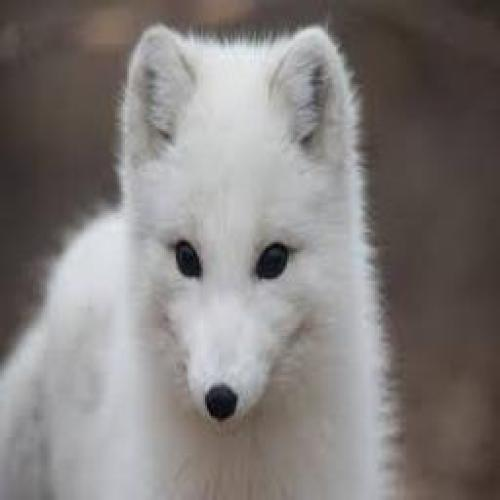arctic_fox-endangered: (5, 28, 397, 500)
